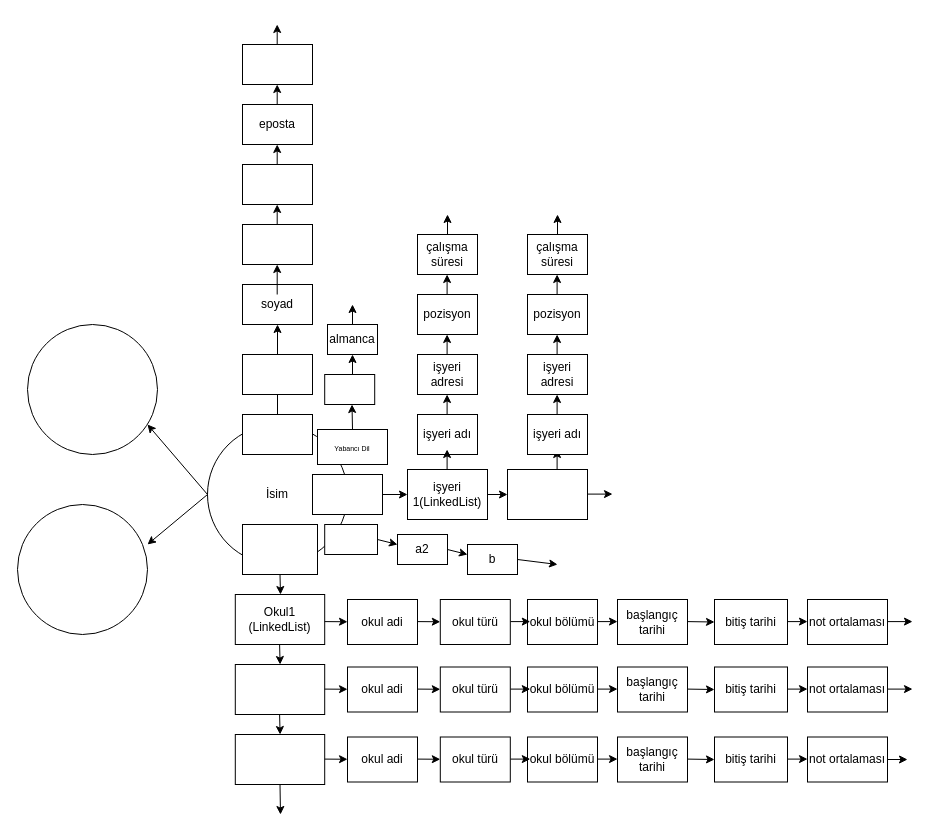
Some shapes in this 938 by 840 pixel diagram are drawn without their labels. The shapes that lost their labels are listed below. From the top down, each one's centre as x and y in pixels, then its label:
At point (277, 64): "dtarih".
At point (277, 184): "telefon".
At point (277, 244): "adres".
At point (92, 389): "Sağ".
At point (277, 374): "ad".
At point (349, 389): "ingilizce".
At point (277, 434): "Bilgi".
At point (347, 494): "İş Deneyimi".
At point (547, 494): "işyeri 2(LinkedList)".
At point (280, 549): "eğitim durumu".
At point (351, 539): "Ehliyet Bilgisi".
At point (82, 569): "sol".
At point (279, 689): "Okul2 (LinkedList)".
At point (279, 759): "Okul3 (LinkedList)".
